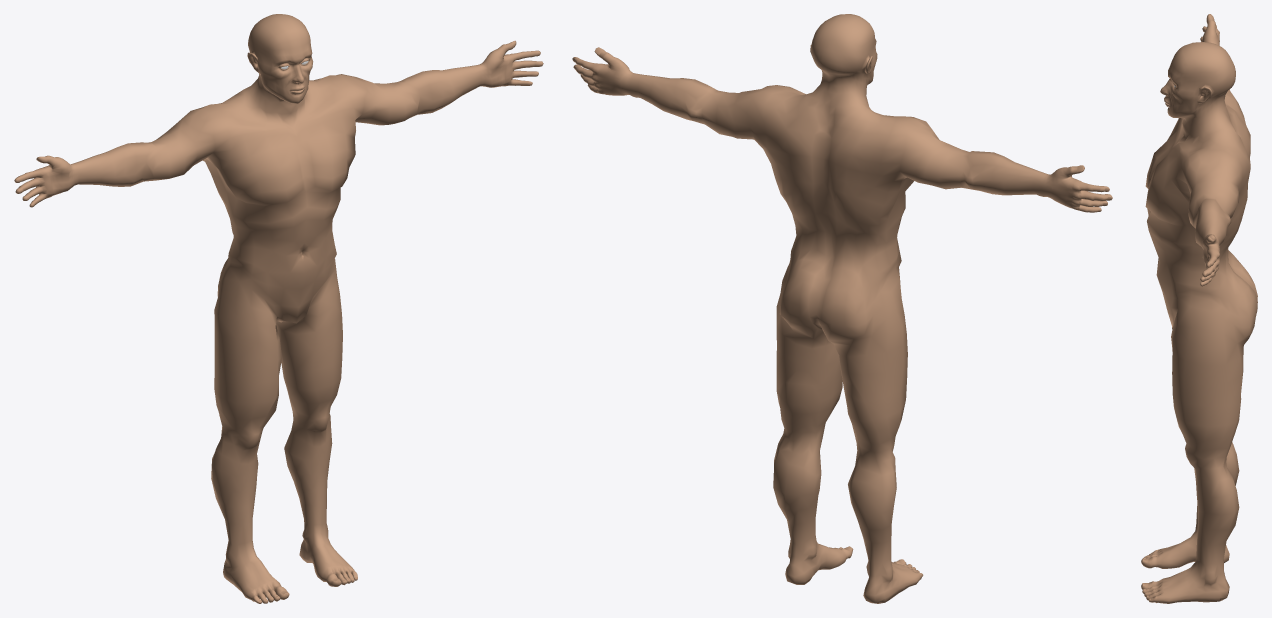
File: baseAvatar.glb
The picture shows the model from 3 angles, left to right: view 1: azimuth 30°, elevation 25°; view 2: azimuth 150°, elevation 25°; view 3: azimuth 270°, elevation 25°; orthographic projection. The views are drawn at different scales.
Visible parts, largest first — view 1: Body; view 2: Body; view 3: Body.
Part boxes in pixels (x1=…): Body: x1=14, y1=14, x2=543, y2=603; Body: x1=572, y1=14, x2=1112, y2=603; Body: x1=1141, y1=14, x2=1257, y2=603.
Size of the model in its own units: 1.79 by 1.8 by 0.3558.
